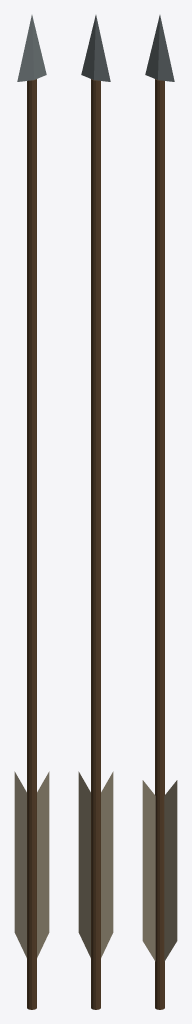
Rendered from period_arrow.glb.
3 renders of one model, left to right at view 1: azimuth 30°, elevation 25°; view 2: azimuth 150°, elevation 25°; view 3: azimuth 330°, elevation 25°, orthographic.
Visible parts, largest first — view 1: Arrow 00 hardwood shaft, Arrow 00 feather 0, Arrow 00 feather 1, Arrow 00 forged point; view 2: Arrow 00 hardwood shaft, Arrow 00 feather 0, Arrow 00 feather 2, Arrow 00 forged point; view 3: Arrow 00 hardwood shaft, Arrow 00 feather 0, Arrow 00 feather 2, Arrow 00 forged point.
Boxes of the visible parts, <box> form: Arrow 00 hardwood shaft: <box>27,79,36,1009</box>; Arrow 00 feather 0: <box>37,771,49,957</box>; Arrow 00 feather 1: <box>14,771,26,957</box>; Arrow 00 forged point: <box>17,15,46,81</box>; Arrow 00 hardwood shaft: <box>91,79,100,1009</box>; Arrow 00 feather 0: <box>78,771,90,957</box>; Arrow 00 feather 2: <box>101,771,113,957</box>; Arrow 00 forged point: <box>81,15,110,81</box>; Arrow 00 hardwood shaft: <box>155,79,164,1009</box>; Arrow 00 feather 0: <box>164,780,177,961</box>; Arrow 00 feather 2: <box>142,780,155,961</box>; Arrow 00 forged point: <box>145,15,174,81</box>.
Size of the model in its own units: 0.026 by 0.77 by 0.0242.
